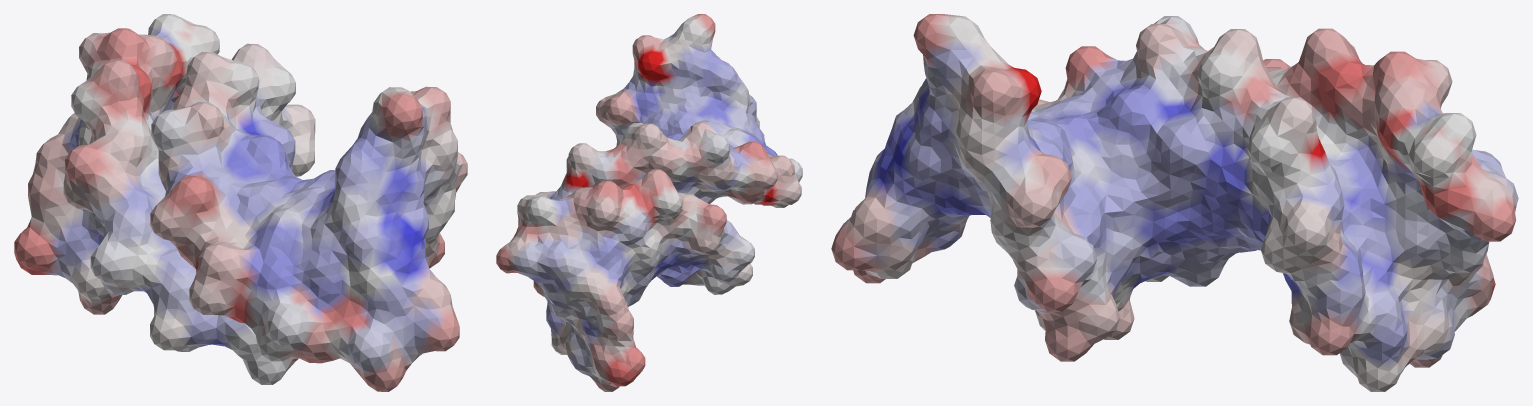
File: 1bna__surface__b-factor.glb
3 renders of one model, left to right at view 1: azimuth 30°, elevation 25°; view 2: azimuth 150°, elevation 25°; view 3: azimuth 270°, elevation 25°, orthographic. The views are drawn at different scales.
Parts seen in each view (by area): view 1: Renderer Node; view 2: Renderer Node; view 3: Renderer Node.
Boxes of the visible parts, x1,y1,x2,y2 form: Renderer Node: (14, 14, 467, 391); Renderer Node: (496, 14, 802, 391); Renderer Node: (831, 14, 1518, 391).
Size of the model in its own units: 25.52 by 29.2 by 45.68.
